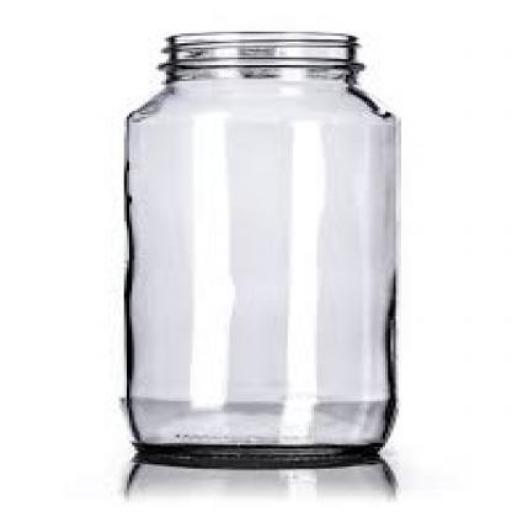glass: (121, 30, 391, 456)
